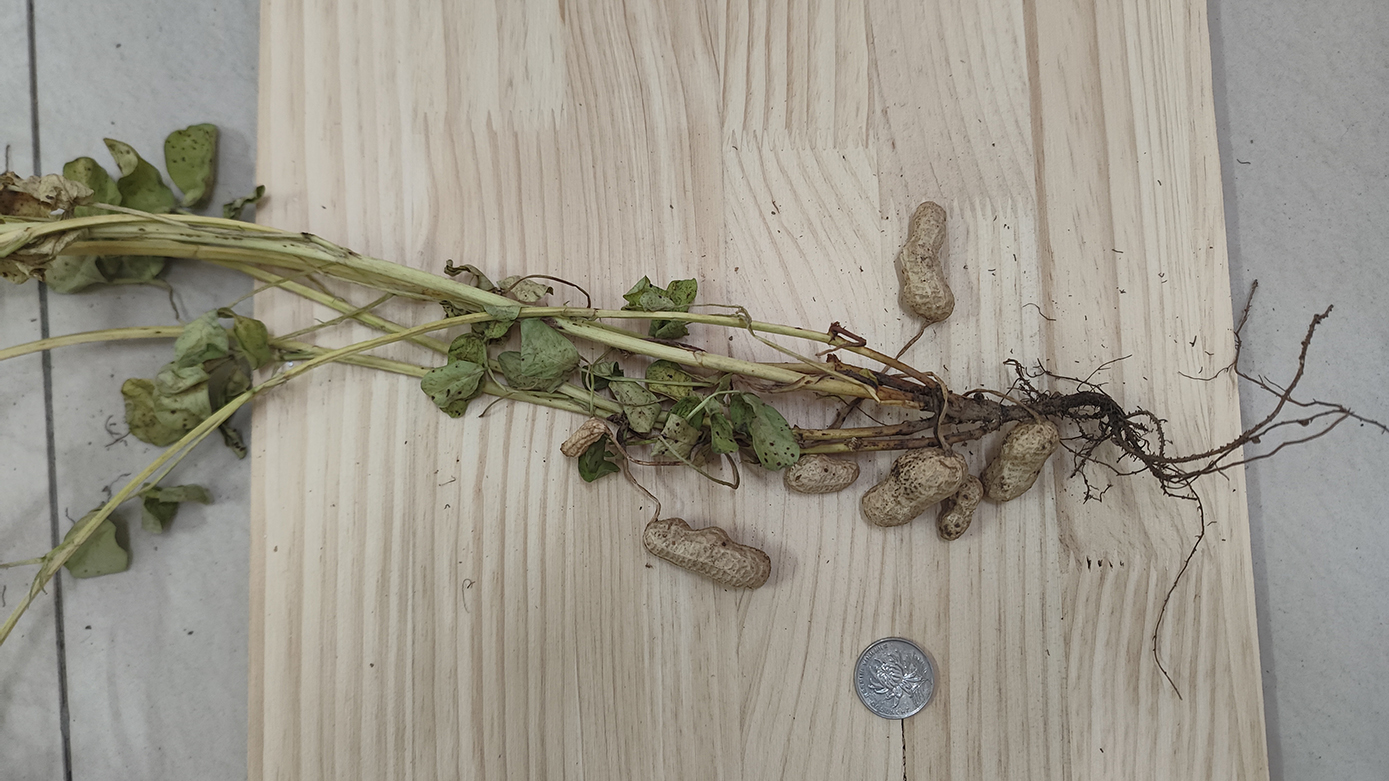h: (642, 518, 772, 588), (862, 445, 967, 527), (897, 200, 955, 322), (983, 419, 1059, 503), (784, 451, 860, 493), (938, 475, 983, 540)
l: (560, 419, 606, 458)
